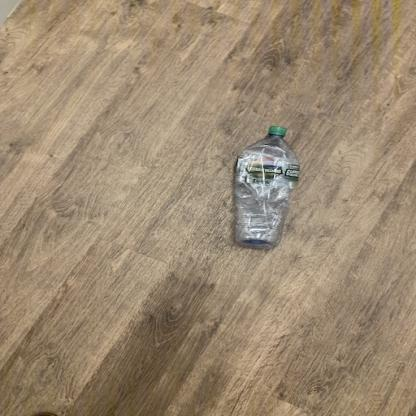trash: (232, 126, 300, 248)
